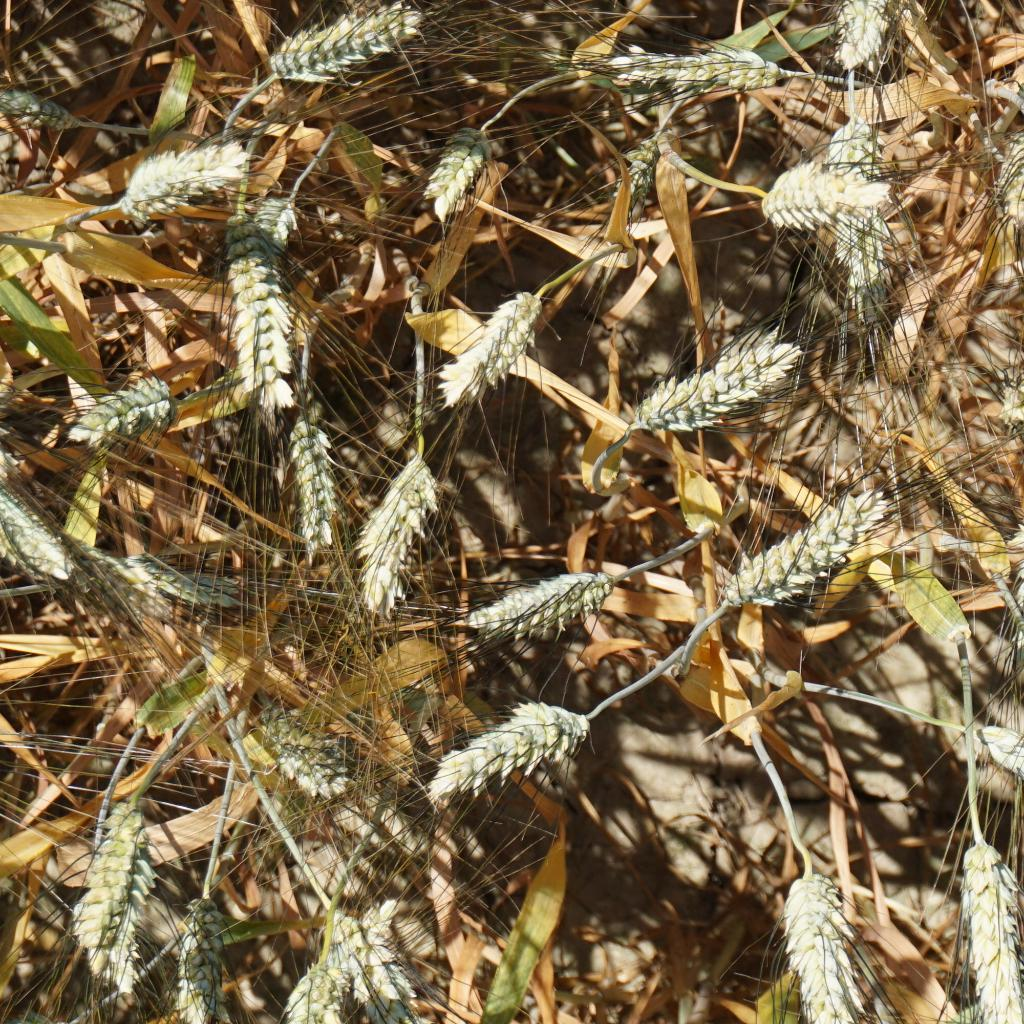0-0: (424, 684, 596, 792), (630, 327, 805, 428), (719, 503, 897, 598), (765, 863, 875, 1010), (258, 4, 438, 93), (220, 208, 294, 402), (353, 452, 440, 617), (948, 843, 1024, 1010), (438, 294, 544, 408), (596, 39, 783, 101), (56, 524, 163, 628), (324, 907, 423, 1014), (459, 567, 617, 634), (268, 412, 337, 564), (72, 792, 140, 940), (116, 139, 230, 224), (254, 702, 345, 805), (418, 114, 502, 224), (59, 373, 168, 456), (832, 122, 891, 275), (171, 887, 231, 1021), (92, 855, 150, 989), (122, 550, 237, 617), (0, 482, 72, 584), (608, 126, 669, 214), (830, 0, 898, 77), (973, 719, 1024, 821), (0, 79, 69, 145), (0, 342, 33, 480), (766, 163, 843, 218), (287, 963, 344, 1024), (990, 129, 1024, 229), (257, 193, 304, 256), (990, 365, 1024, 423), (1004, 73, 1024, 139)
